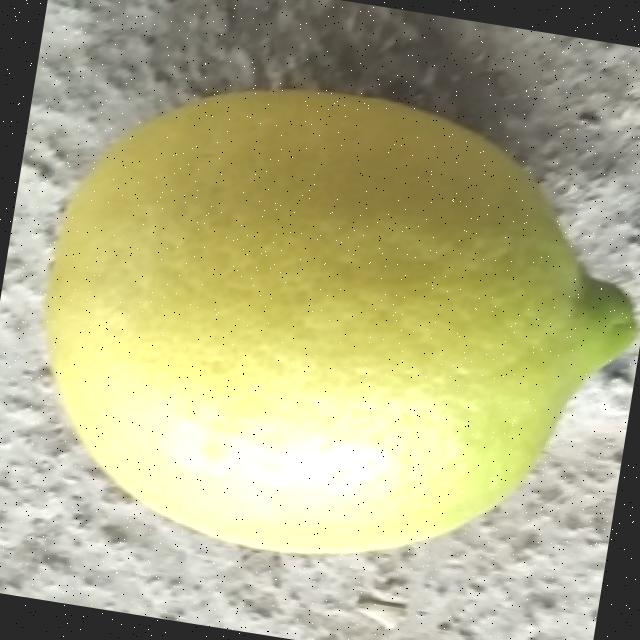Lemon: (3, 45, 640, 604)
